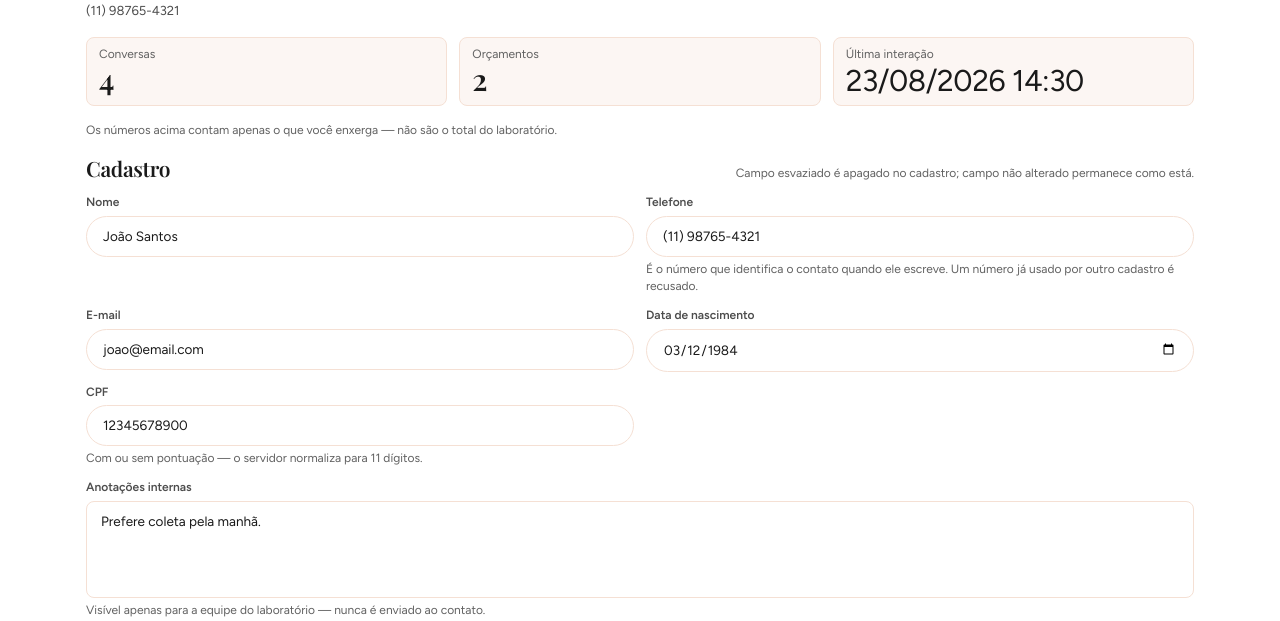
it: Ficha do Paciente › marca o campo com o motivo de VALIDATION_ERROR do backend
Replace the text in the field labelled "CPF" with "11111111111" at (360, 425), box [103,416,617,435]
(page scrolled)
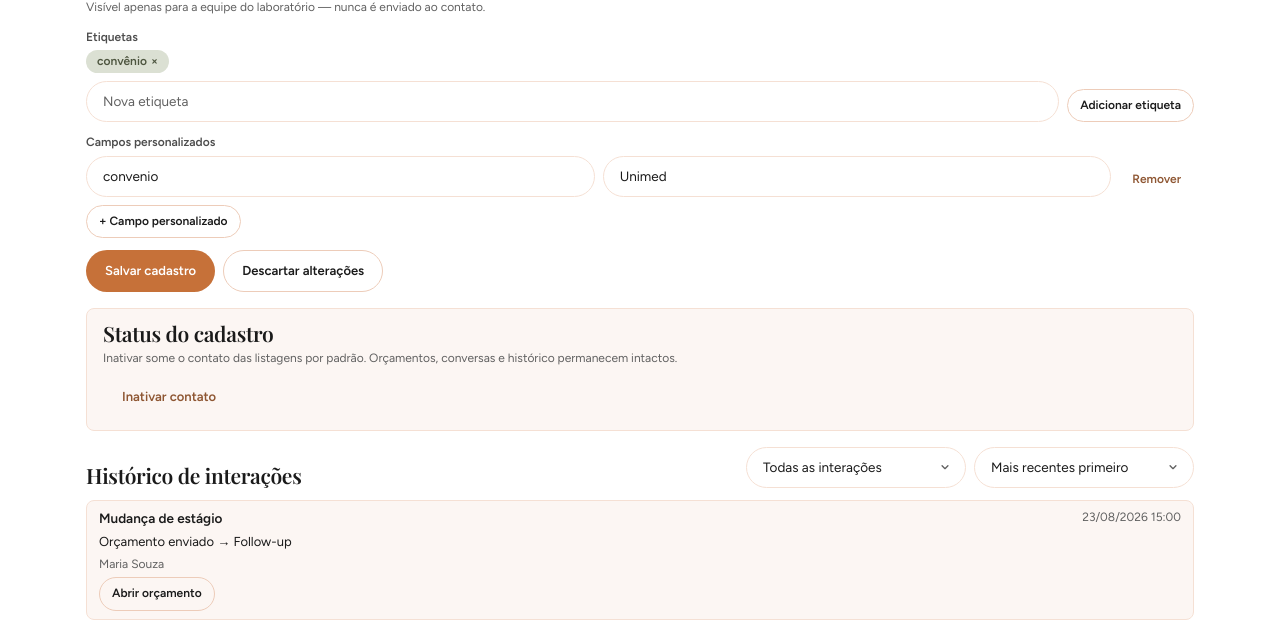
Click the button "Salvar cadastro" at (151, 271), box [86,250,215,292]
(page scrolled)
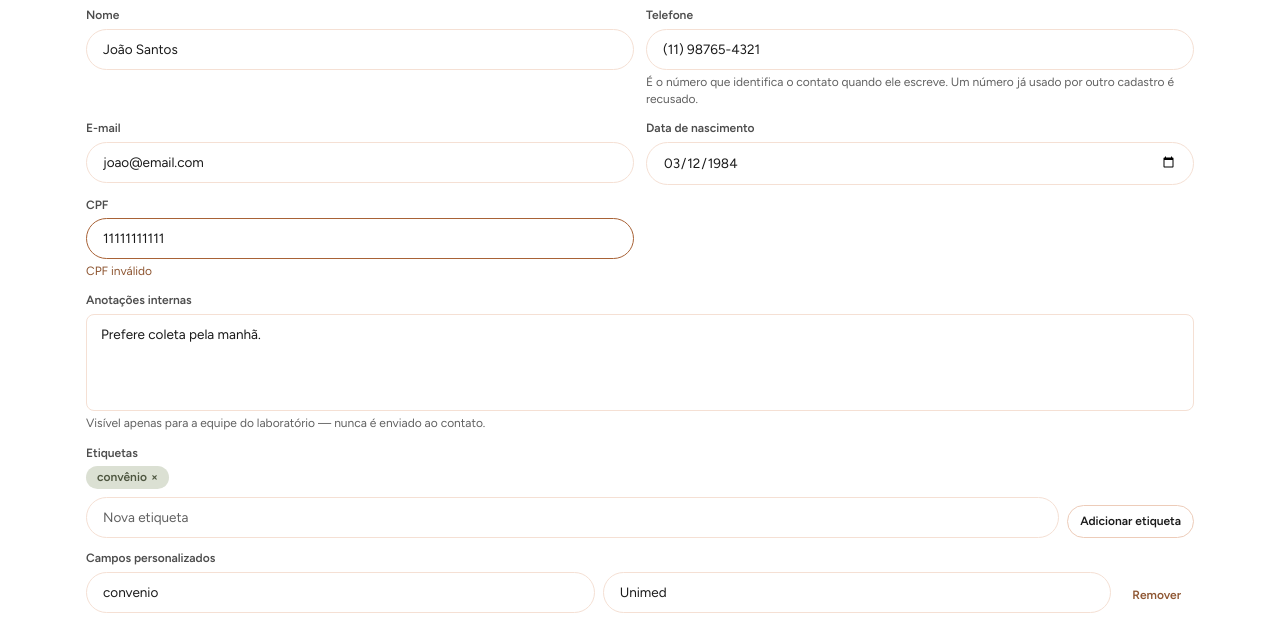
Check: the text "CPF inválido" is shown, box [86,264,152,278]
